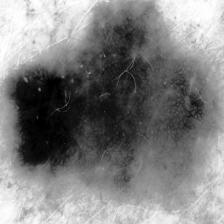Benign Marking or Mole: (4, 4, 220, 198)
